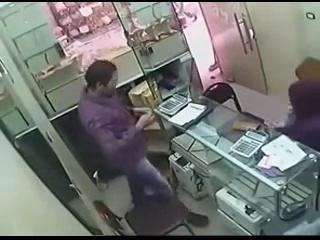Normal: (76, 60, 210, 234)
